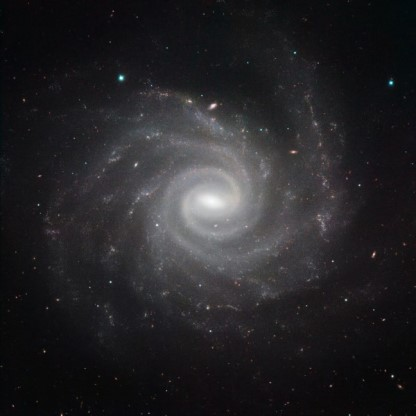NGC 1232: (39, 43, 384, 351)
